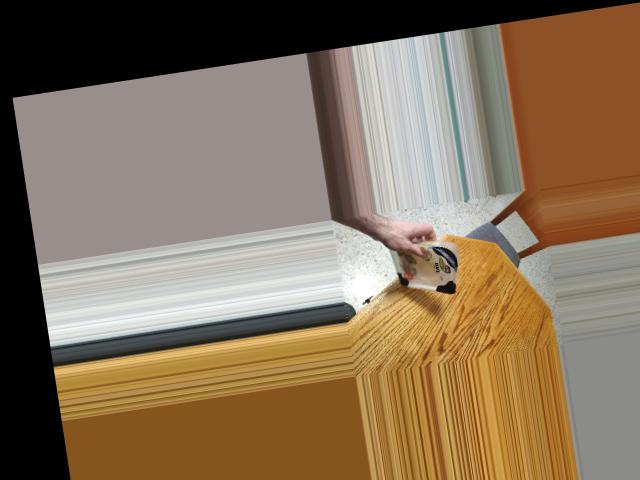cheese: (386, 236, 466, 296)
